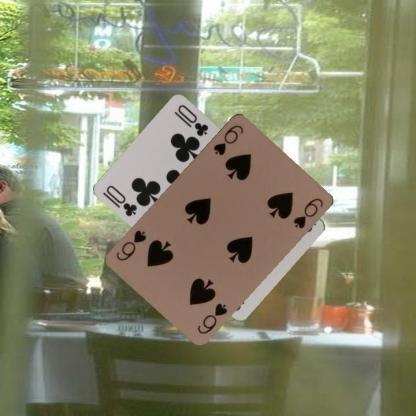10c: (104, 182, 140, 218)
6s: (210, 121, 245, 156), (195, 300, 229, 335)
